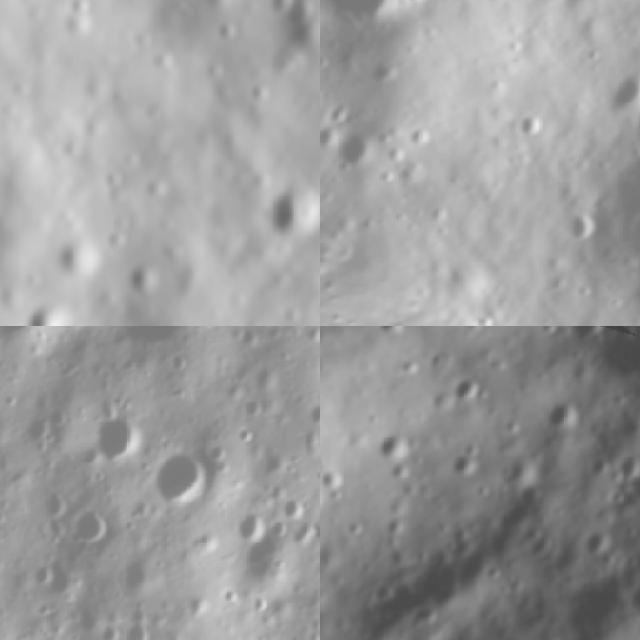crater: (559, 97, 640, 324), (320, 0, 457, 67), (252, 168, 320, 260), (226, 520, 301, 600), (143, 439, 216, 511), (47, 220, 120, 291), (104, 326, 220, 370), (583, 326, 640, 402), (249, 0, 320, 54), (502, 98, 560, 158), (93, 407, 145, 472), (328, 127, 382, 183), (595, 62, 640, 128), (32, 554, 90, 605), (15, 289, 88, 326), (556, 204, 606, 255), (448, 368, 496, 418), (123, 542, 167, 596), (538, 394, 587, 439), (369, 426, 416, 472), (73, 500, 119, 542), (71, 592, 110, 636), (179, 583, 219, 625), (233, 507, 271, 546), (21, 413, 57, 449), (56, 0, 102, 26), (112, 615, 157, 640), (40, 487, 73, 521), (559, 326, 605, 347), (624, 443, 640, 503), (281, 489, 310, 521), (467, 304, 504, 326), (49, 404, 72, 429), (360, 326, 400, 340), (425, 629, 469, 640), (305, 401, 320, 428), (313, 515, 320, 546)
